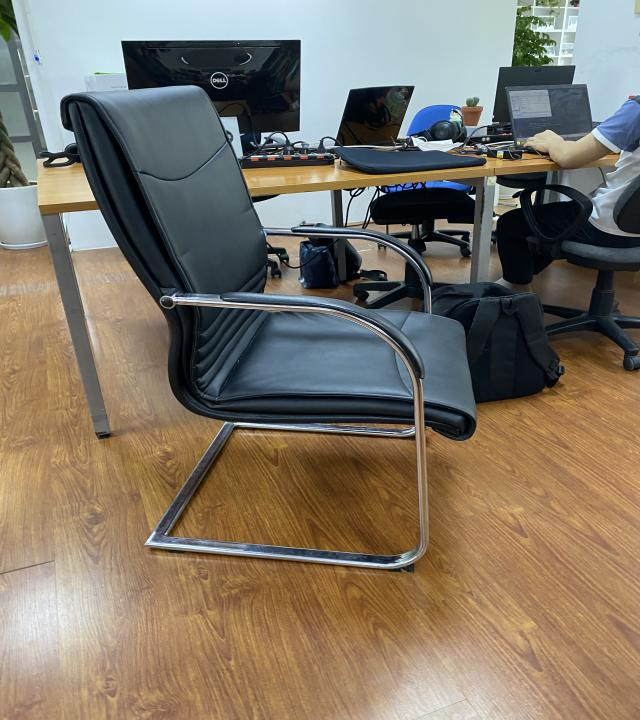SS_03: (56, 80, 478, 574)
